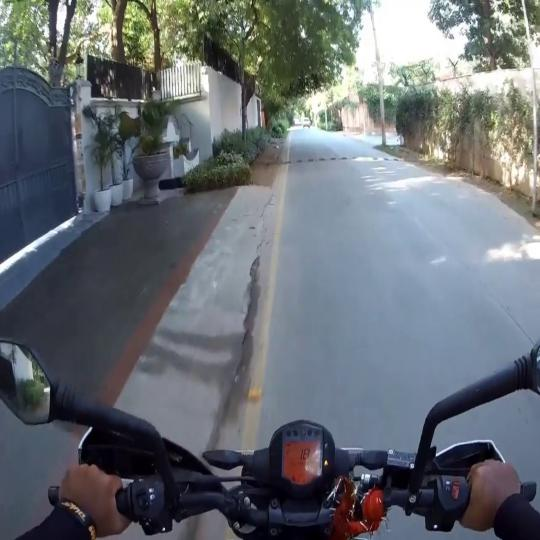Speed Bump: (276, 156, 404, 163)
